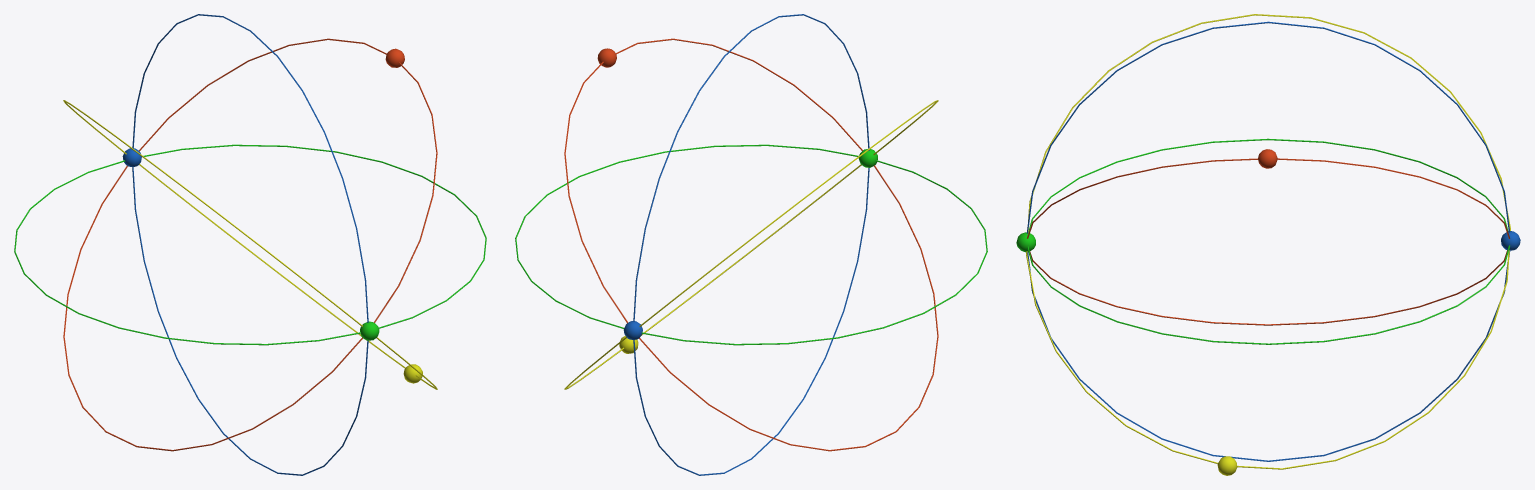
Rendered from Atom.FBX.
3 views of the same model, side by side, from view 1: azimuth 30°, elevation 25°; view 2: azimuth 150°, elevation 25°; view 3: azimuth 270°, elevation 25° (orthographic). The views are drawn at different scales.
Parts seen in each view (by area): view 1: Atom_Orange, Atom_Blue, Atom_Green, Atom_Yellow; view 2: Atom_Orange, Atom_Blue, Atom_Green, Atom_Yellow; view 3: Atom_Yellow, Atom_Blue, Atom_Green, Atom_Orange.
Boxes of the visible parts, x1,y1,x2,y2 form: Atom_Orange: (63,38,437,451); Atom_Blue: (122,14,368,475); Atom_Green: (14,144,486,345); Atom_Yellow: (63,100,437,389); Atom_Orange: (564,38,938,451); Atom_Blue: (623,14,869,475); Atom_Green: (515,144,987,345); Atom_Yellow: (564,100,938,389); Atom_Yellow: (1026,14,1510,475); Atom_Blue: (1026,21,1520,461); Atom_Green: (1016,138,1509,344); Atom_Orange: (1027,149,1509,325).
Bounding box in the file's own units: 821 × 821 × 852.
